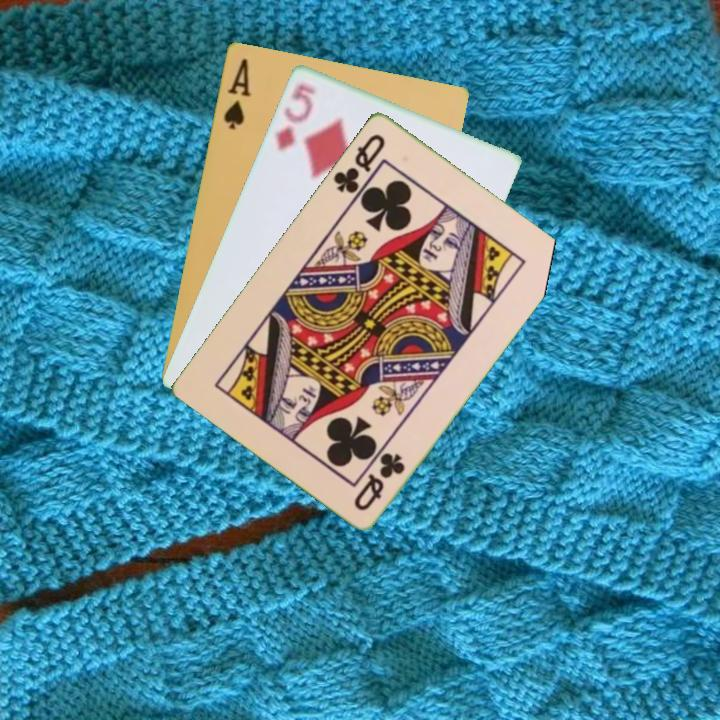5d: (271, 79, 318, 153)
As: (219, 54, 253, 132)
Qc: (329, 129, 388, 196), (350, 448, 408, 513)
